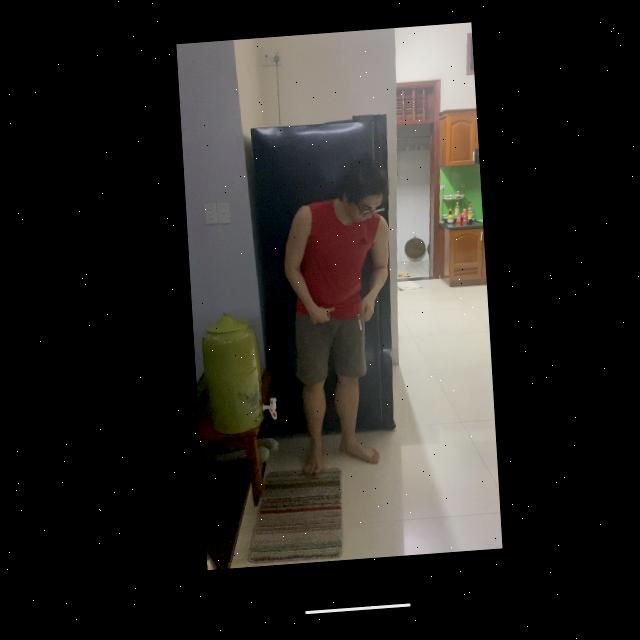cigarette: (353, 319, 357, 335)
